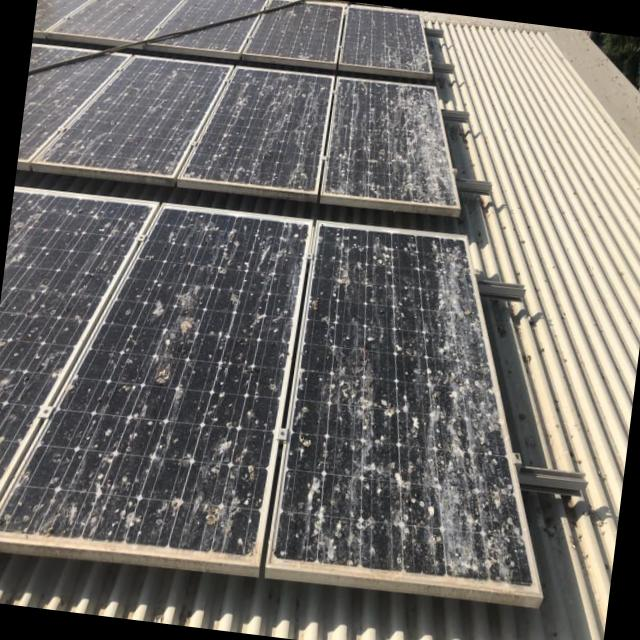faulty: (0, 205, 306, 560), (269, 228, 531, 589), (18, 43, 461, 208), (0, 193, 144, 484), (34, 0, 429, 71)
